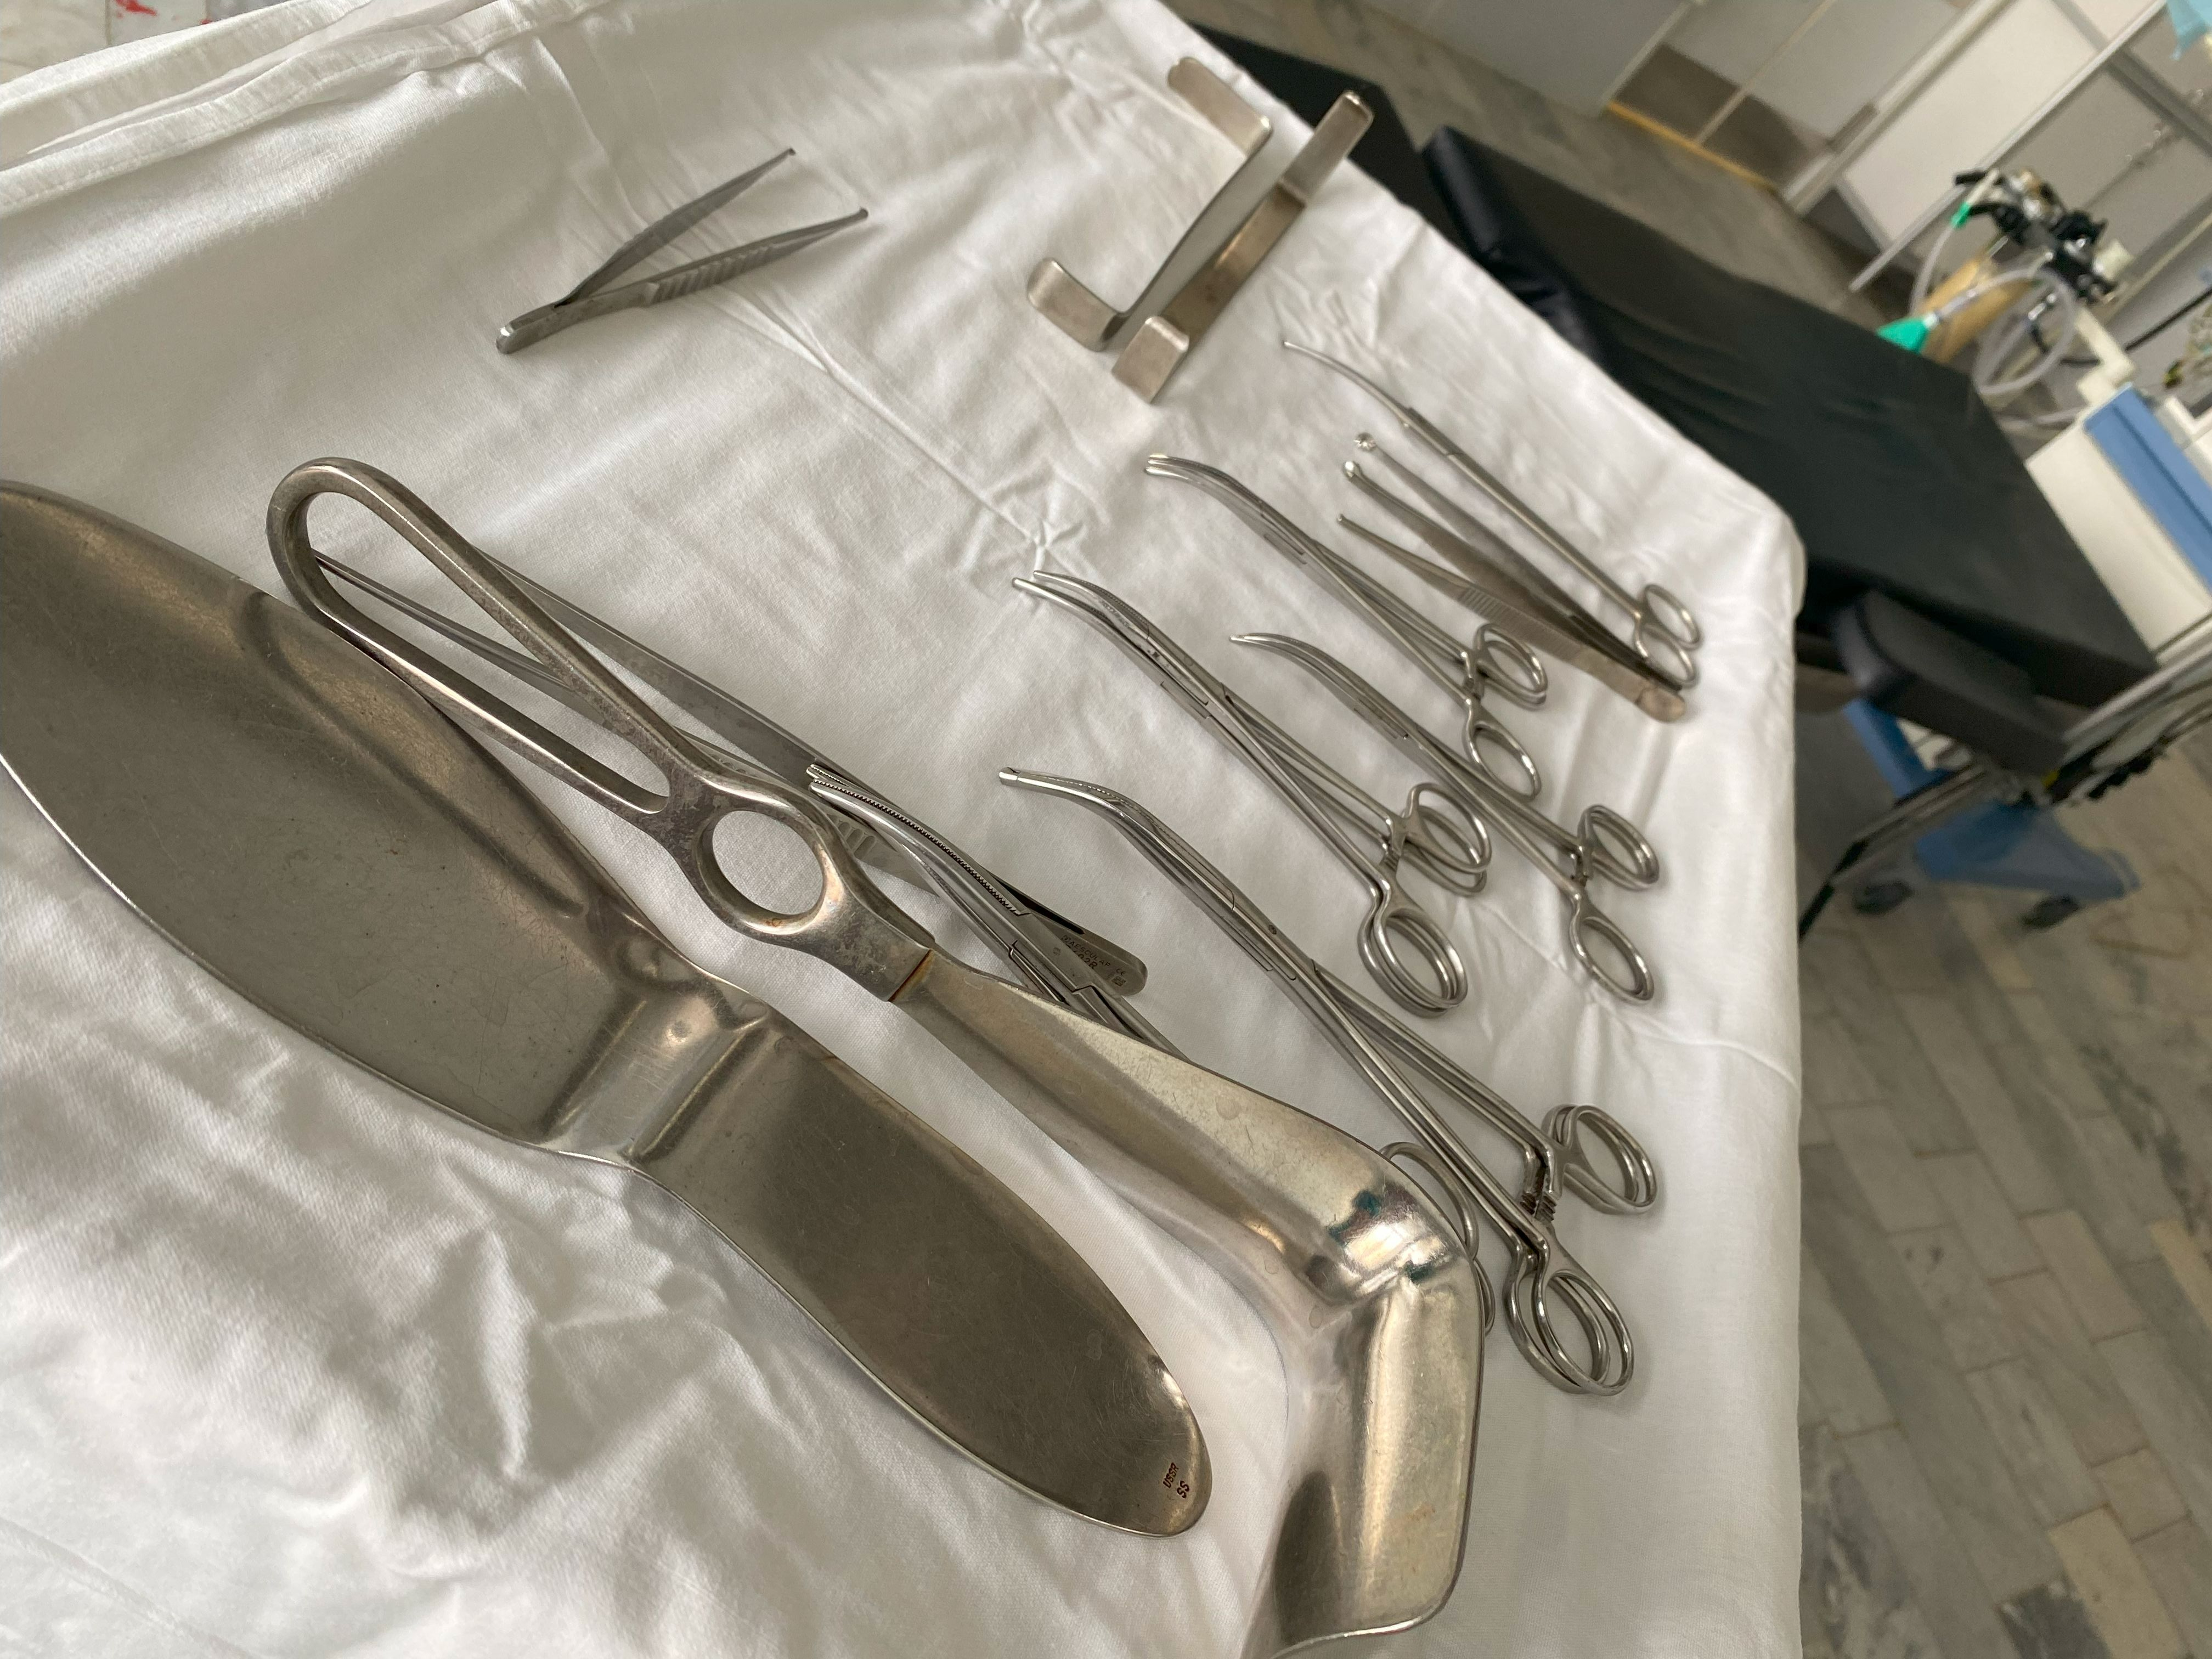clamp: (1001, 770, 1658, 1392), (1015, 572, 1491, 1016), (1240, 634, 1660, 1002), (1146, 453, 1548, 798)
tweezers: (1339, 460, 1686, 721), (496, 148, 869, 354)
